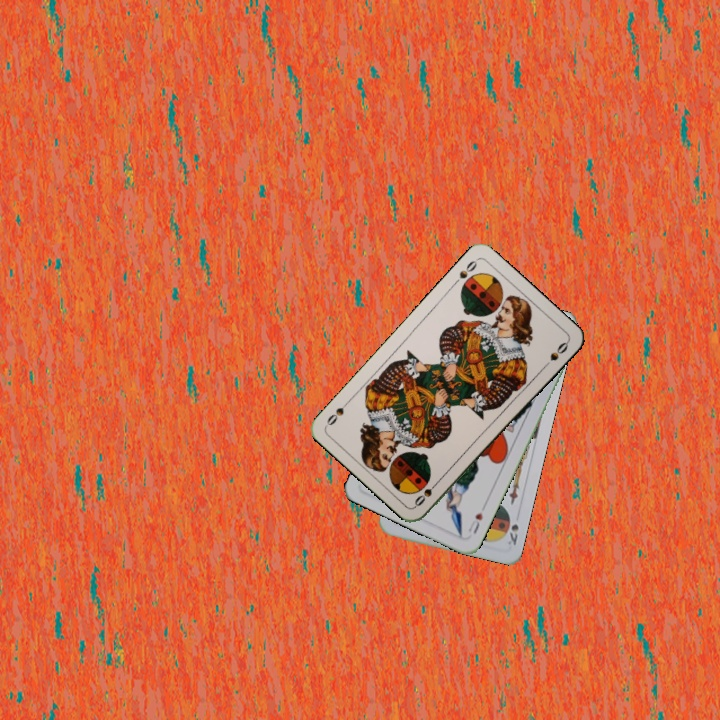HU: (464, 508, 486, 537)
SK: (504, 520, 521, 548)
SO: (410, 476, 442, 509), (449, 255, 480, 288)
